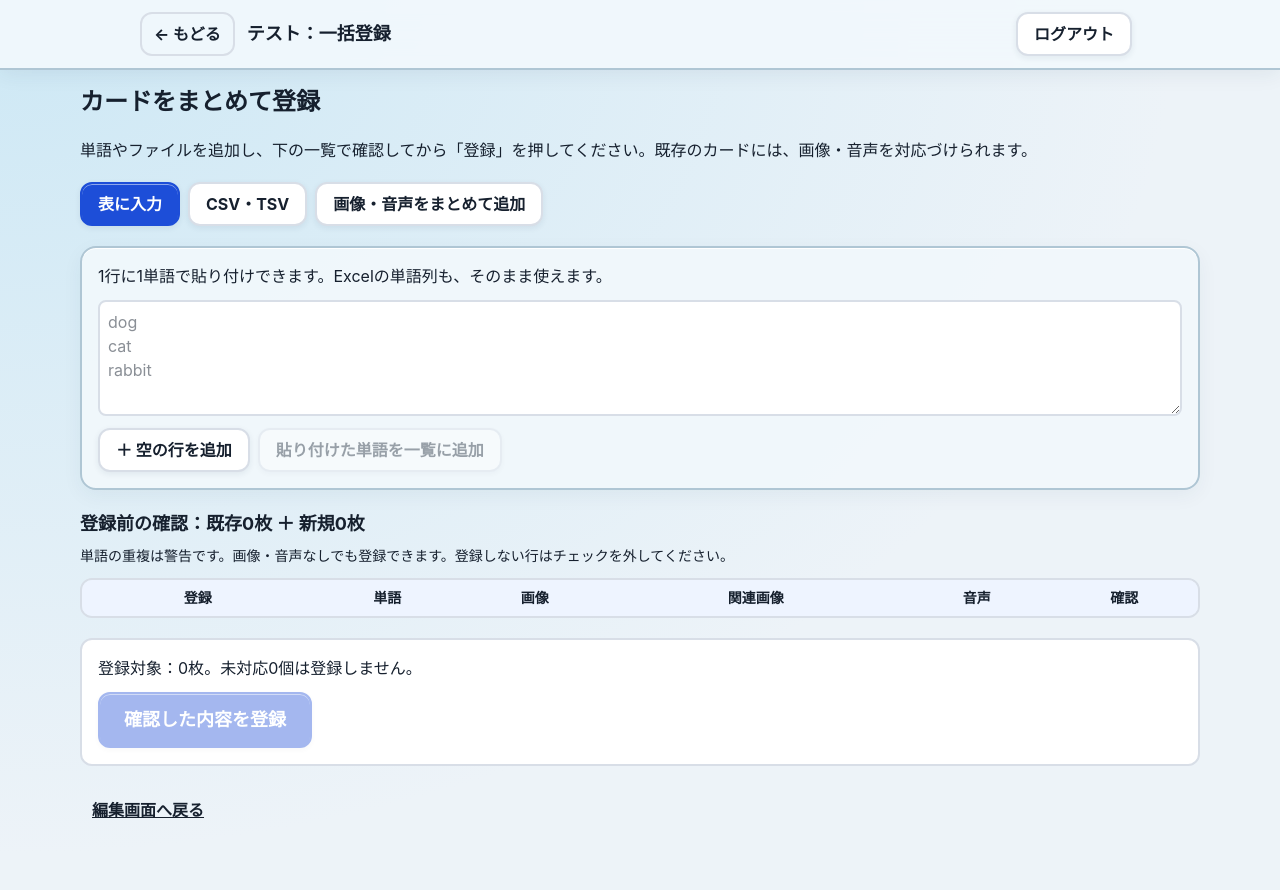
Test: 通信失敗を表示し、同じジョブを続きから再試行する
The width and height of the screenshot is (1280, 890).
Type "dog" into the text box named "単語をまとめて貼り付け" at (640, 358), box x1=98 y1=300 x2=1182 y2=416
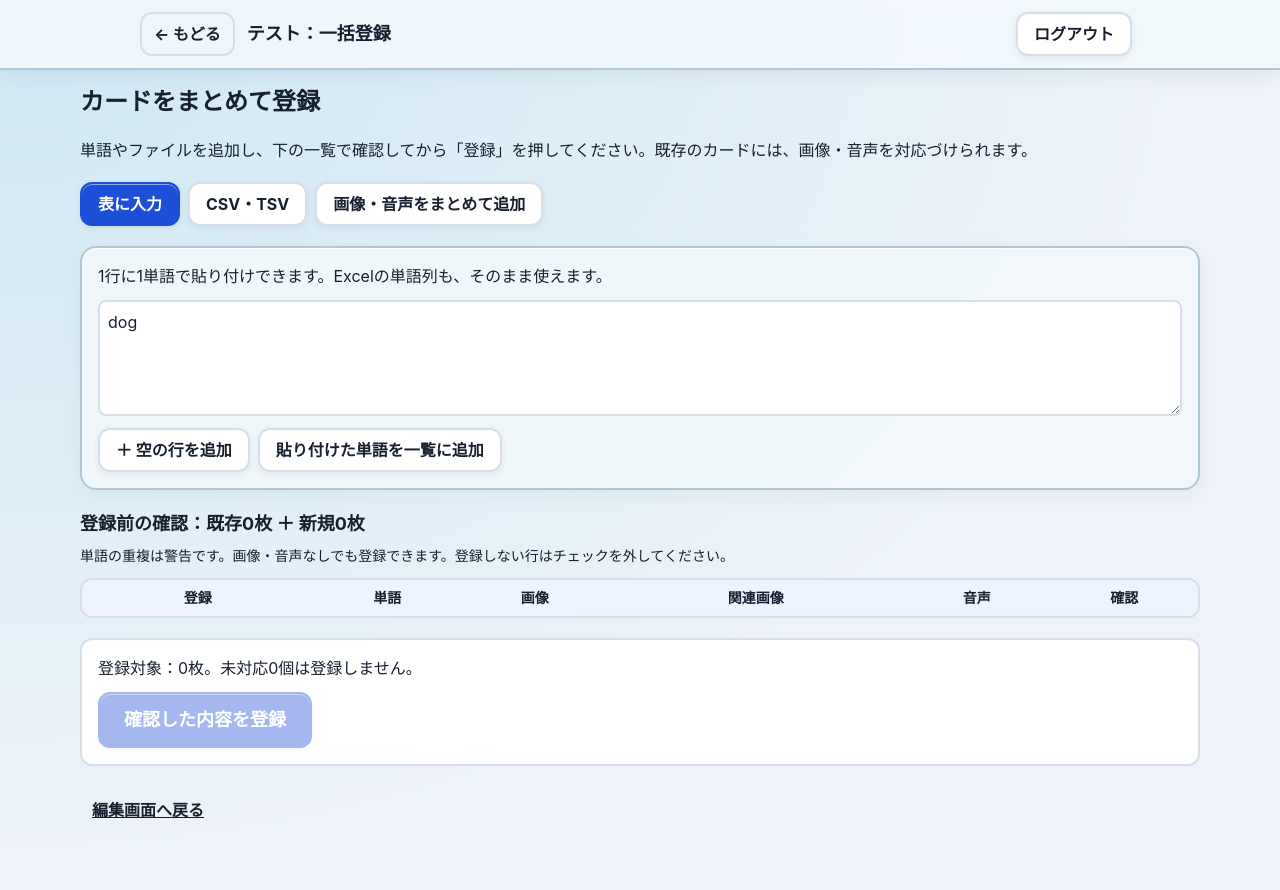
Click the button "貼り付けた単語を一覧に追加" at (380, 450), box x1=258 y1=428 x2=502 y2=472
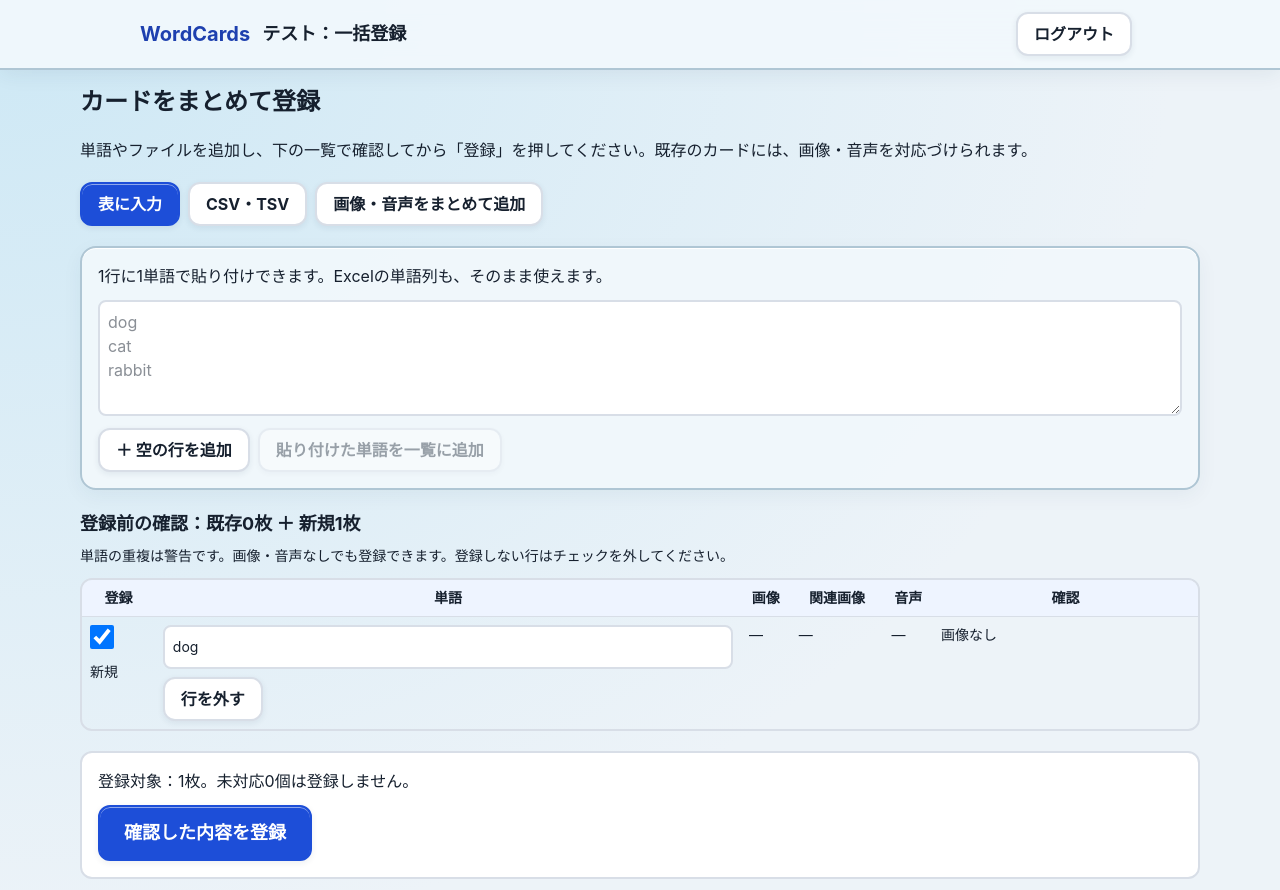
Click the button "確認した内容を登録" at (205, 833), box x1=98 y1=805 x2=312 y2=861
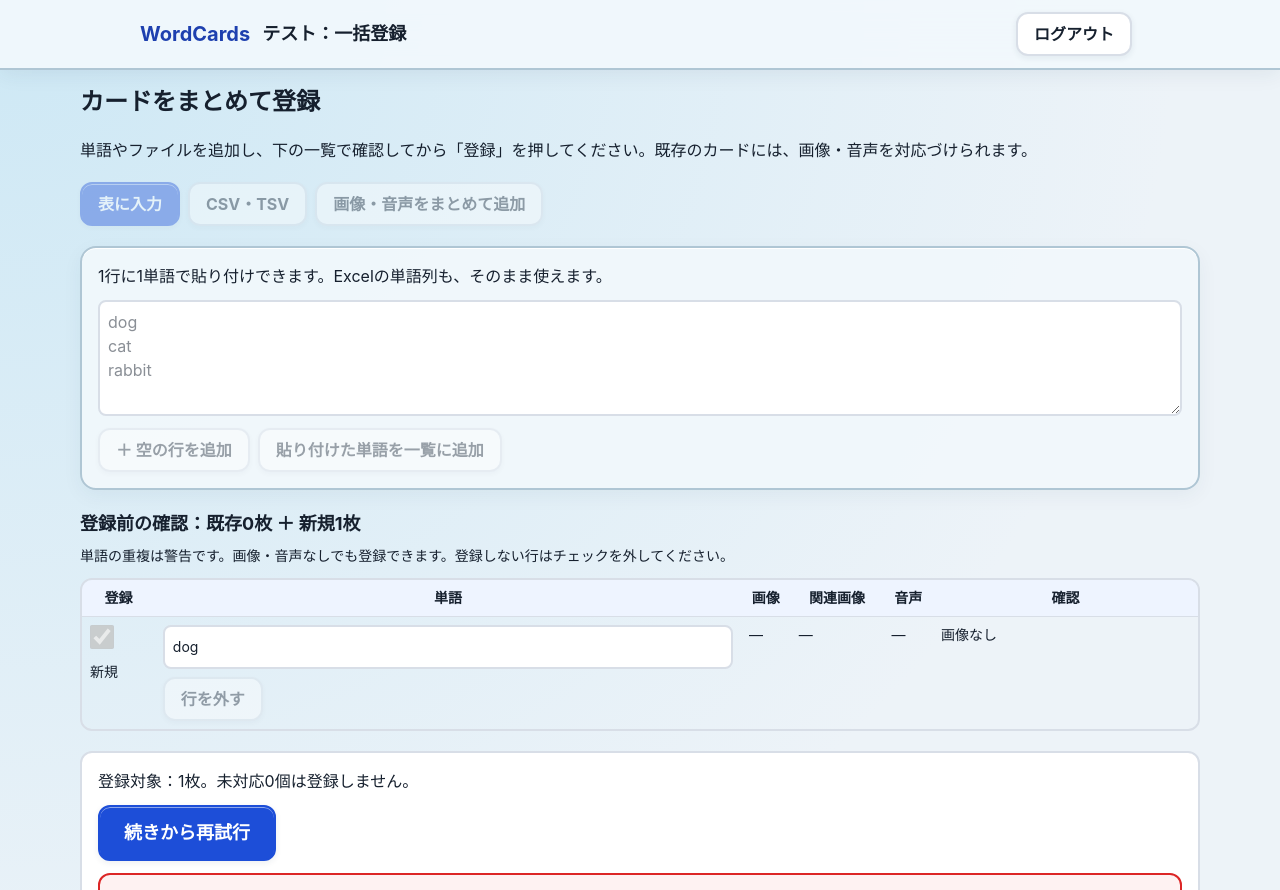
Click the button "続きから再試行" at (187, 833), box x1=98 y1=805 x2=276 y2=861
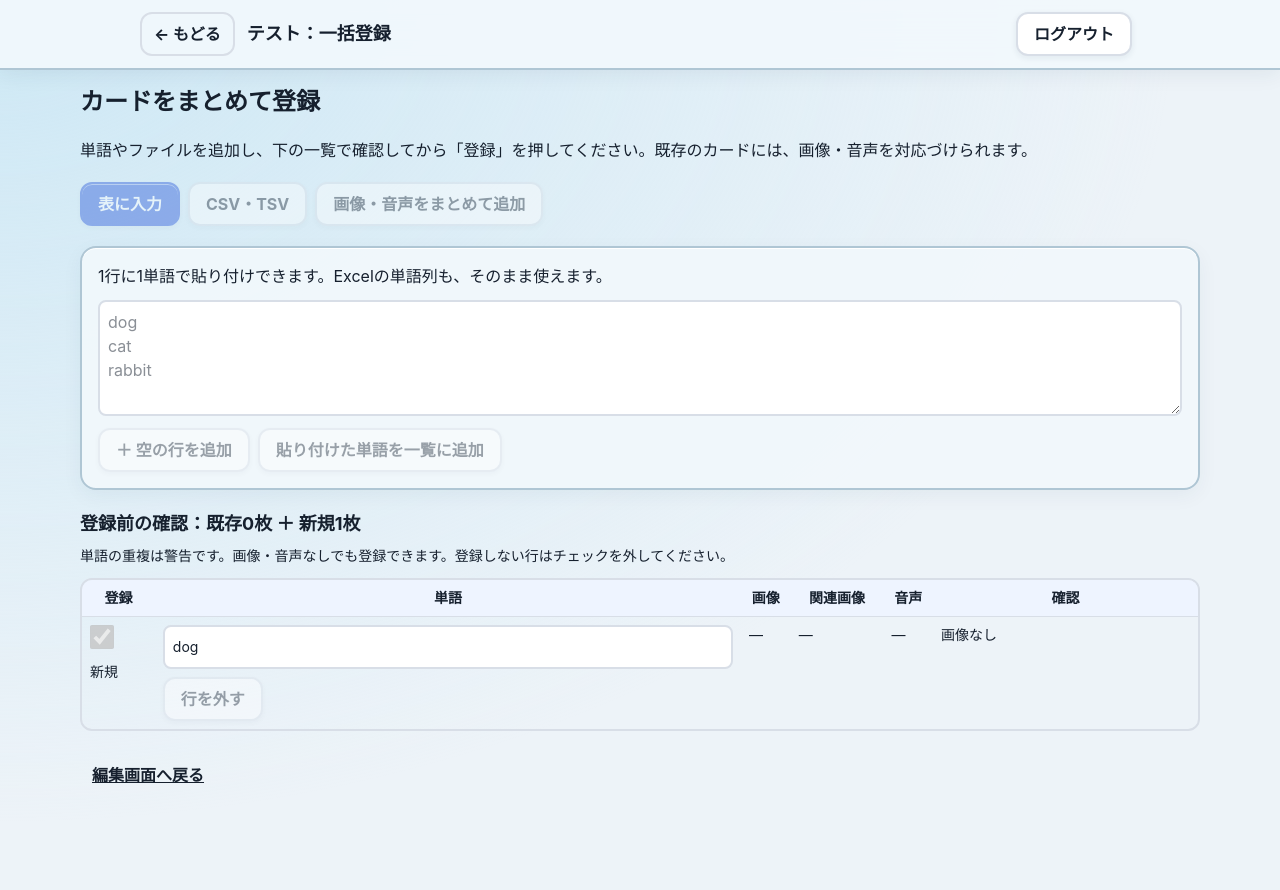
Result: the link "編集画面へ戻る" is shown at x1=92 y1=765 x2=204 y2=785
